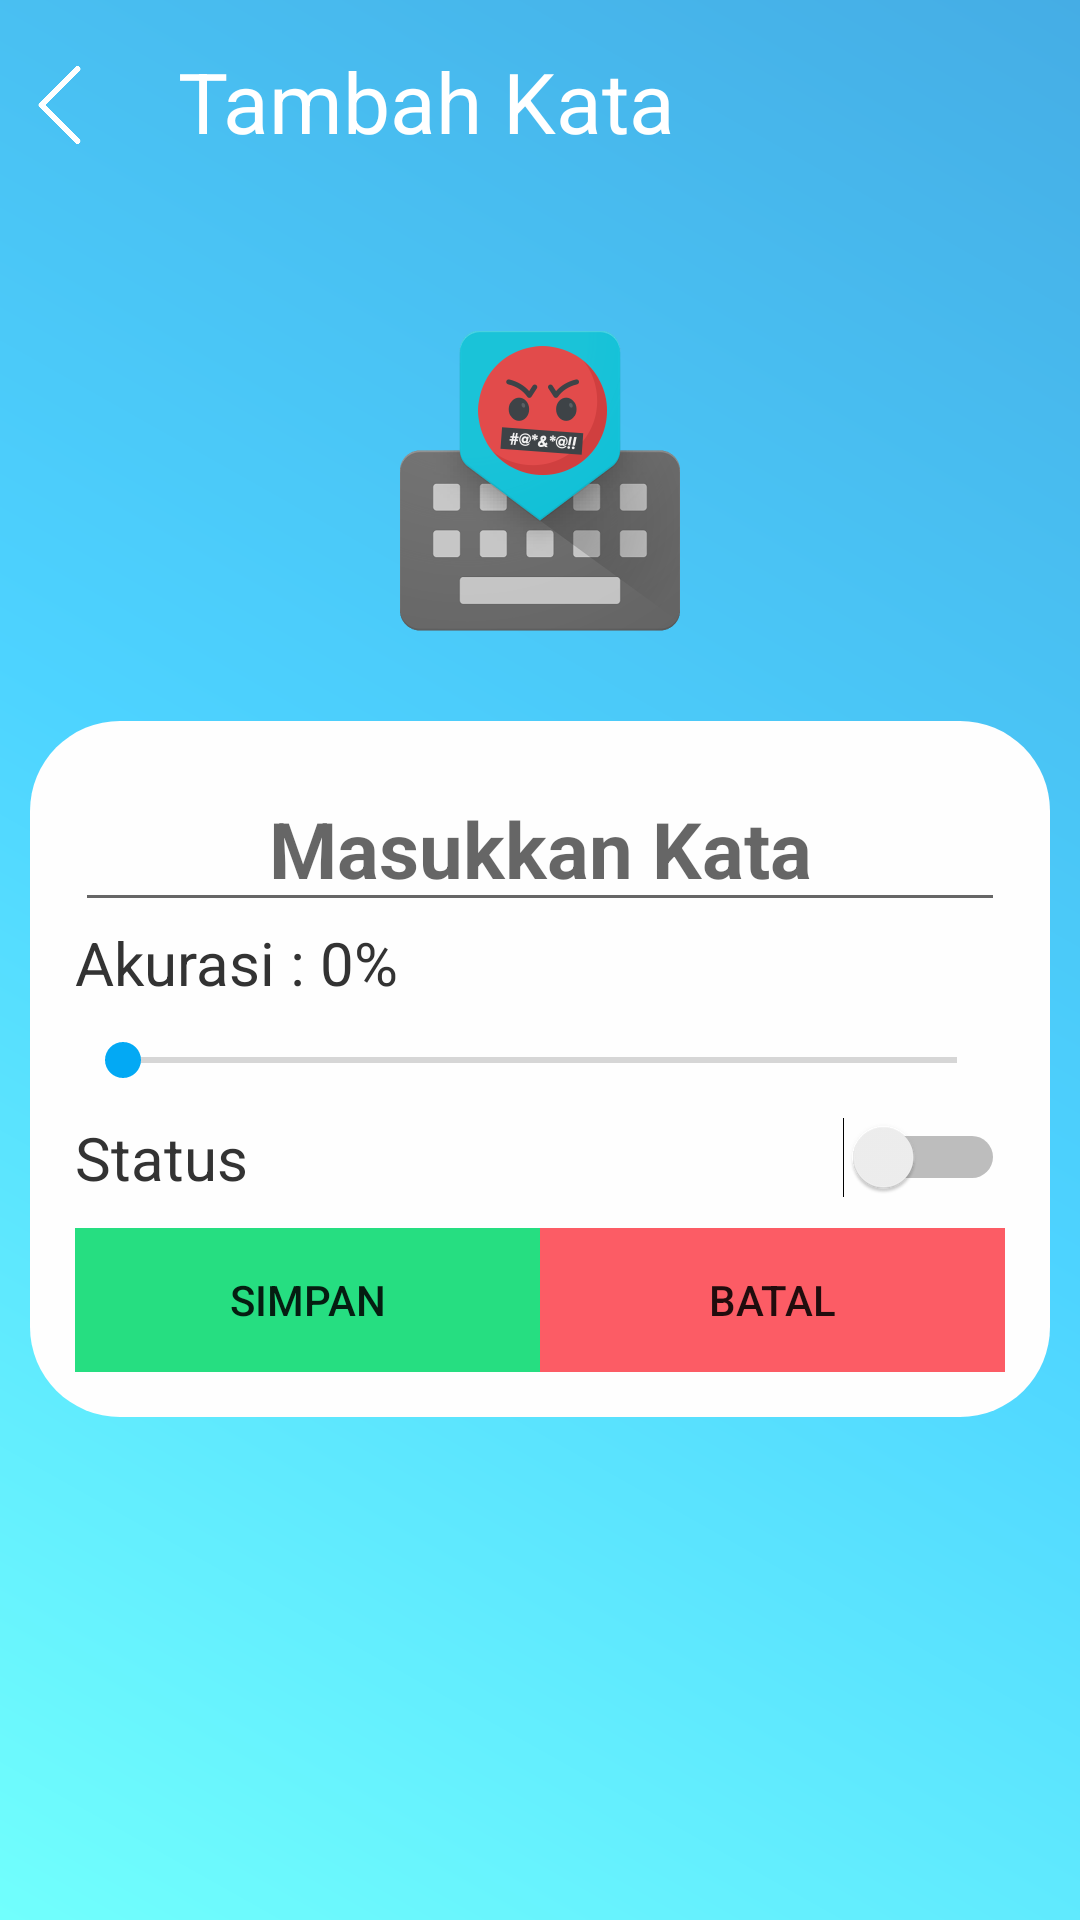

Named icons in this screenshot (1080px×1920px) and their bounding boxes, [x1,y1,x2,y2]:
keyboard sehat: [400,332,680,631]
